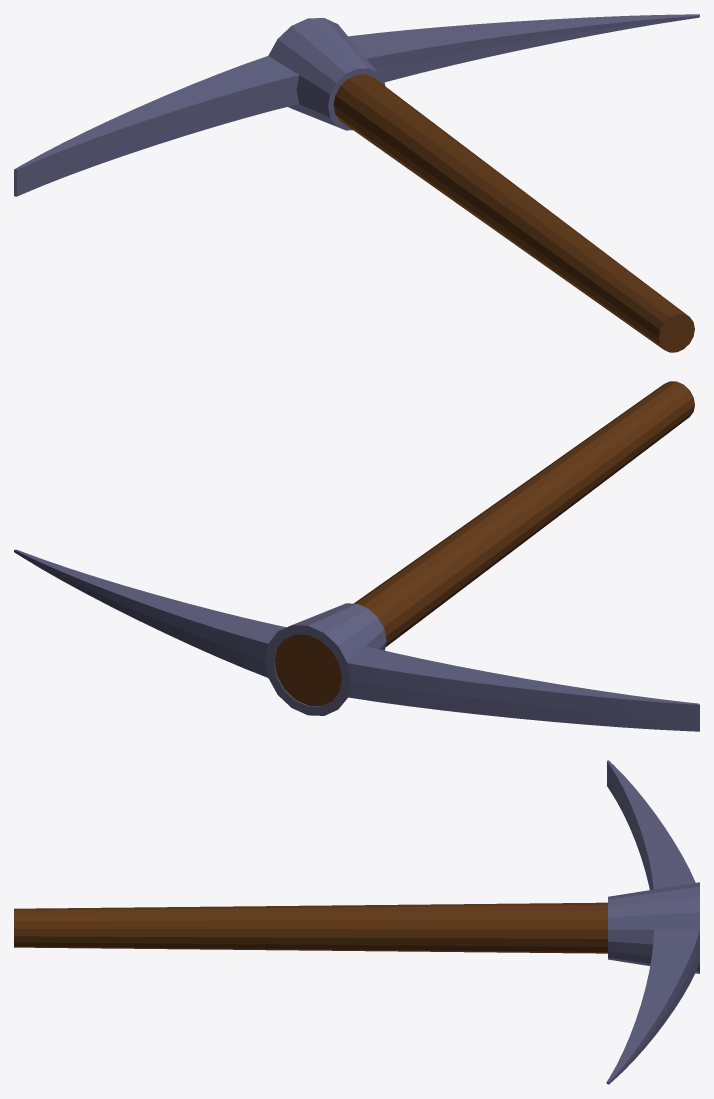
Rendered from AlloyPickaxe.fbx.
The picture shows the model from 3 angles, top to bottom: view 1: azimuth 30°, elevation 25°; view 2: azimuth 150°, elevation 25°; view 3: azimuth 270°, elevation 25°; orthographic projection. The views are drawn at different scales.
Visible parts, largest first — view 1: Cylinder, Cylinder.001; view 2: Cylinder, Cylinder.001; view 3: Cylinder.001, Cylinder.
Part boxes in pixels (<box>): Cylinder: <box>14,14,699,196</box>; Cylinder.001: <box>333,74,694,352</box>; Cylinder: <box>14,549,699,731</box>; Cylinder.001: <box>274,381,694,706</box>; Cylinder.001: <box>14,902,607,953</box>; Cylinder: <box>606,760,699,1084</box>.
Bounding box in the file's own units: 1602 × 200 × 1493.
